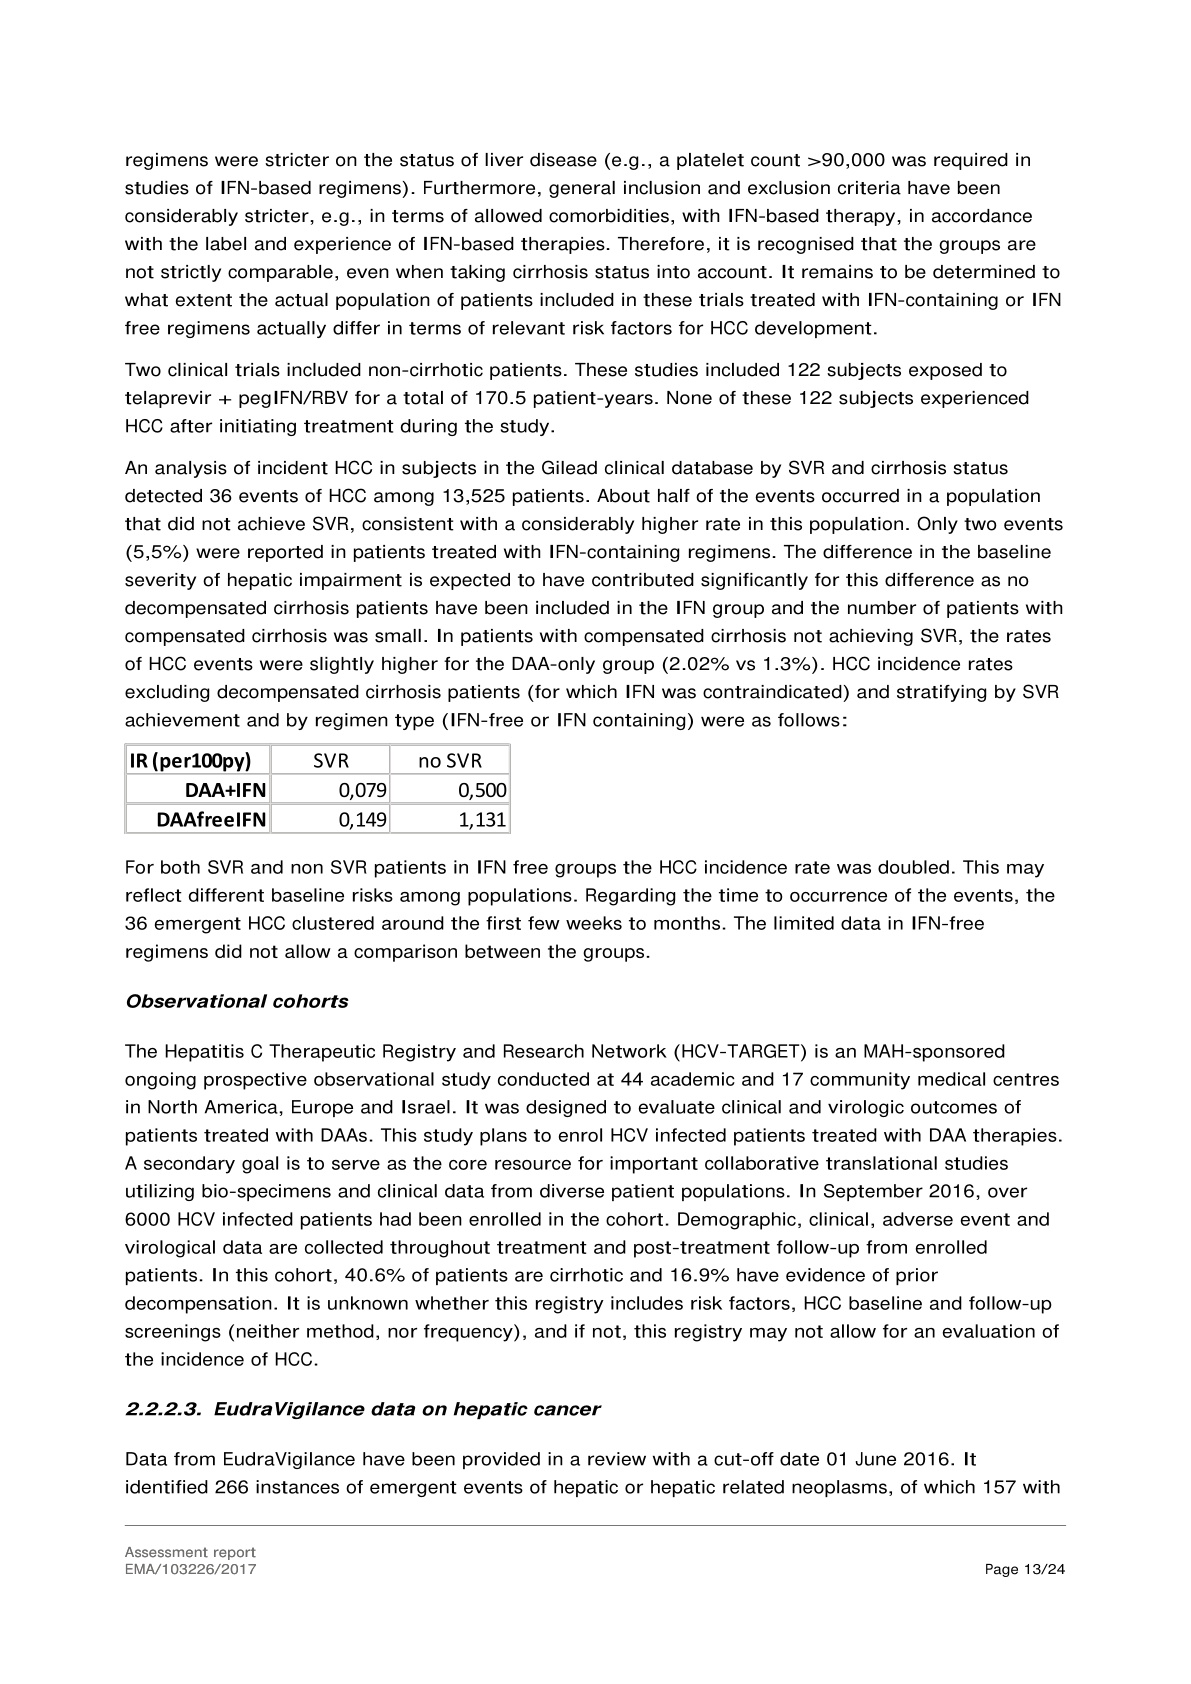full_lined: (122, 743, 510, 834)
